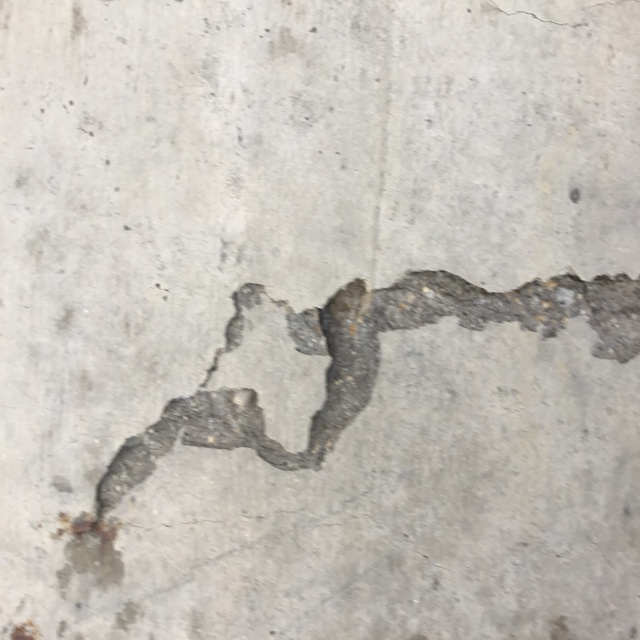spall: (93, 271, 391, 533), (305, 256, 640, 378)
